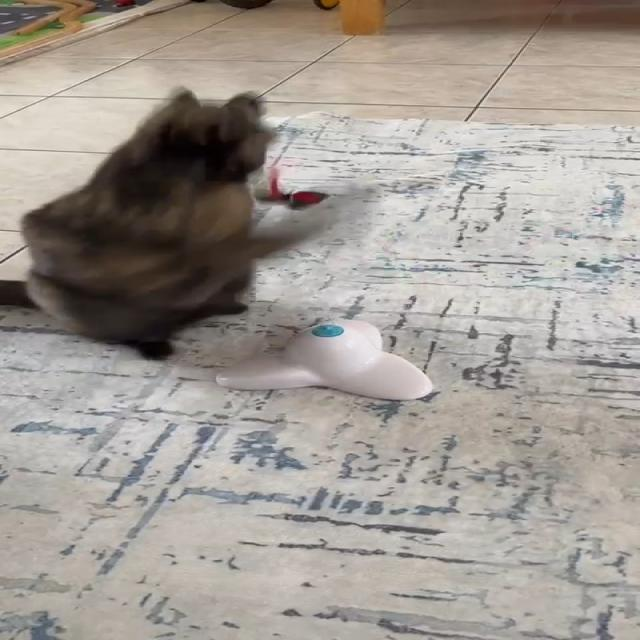authorized: (17, 84, 280, 360)
